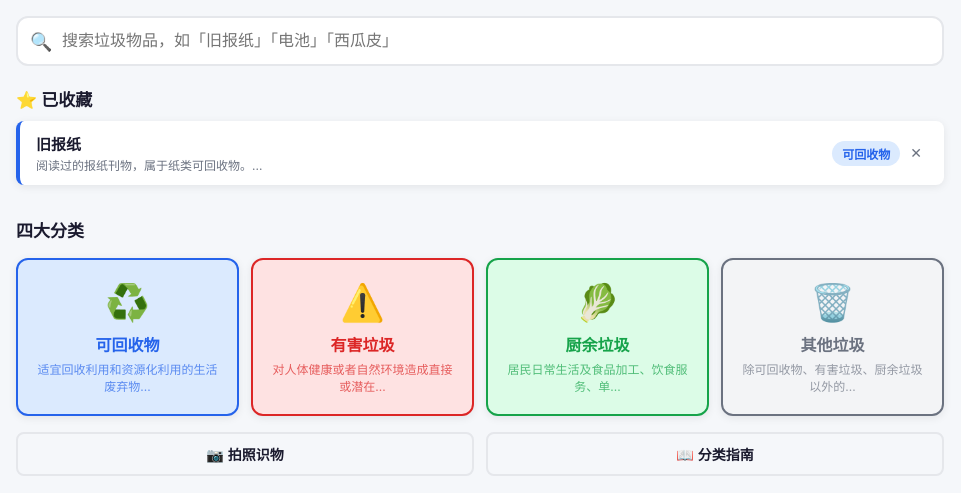
首页已收藏列表回看 › 全部取消收藏后，"已收藏"区域消失
Expected: the heading "⭐ 已收藏" is shown, [16,86,92,111]
Step 1. Click the button named "取消收藏" → (916, 153), box [904,141,928,165]
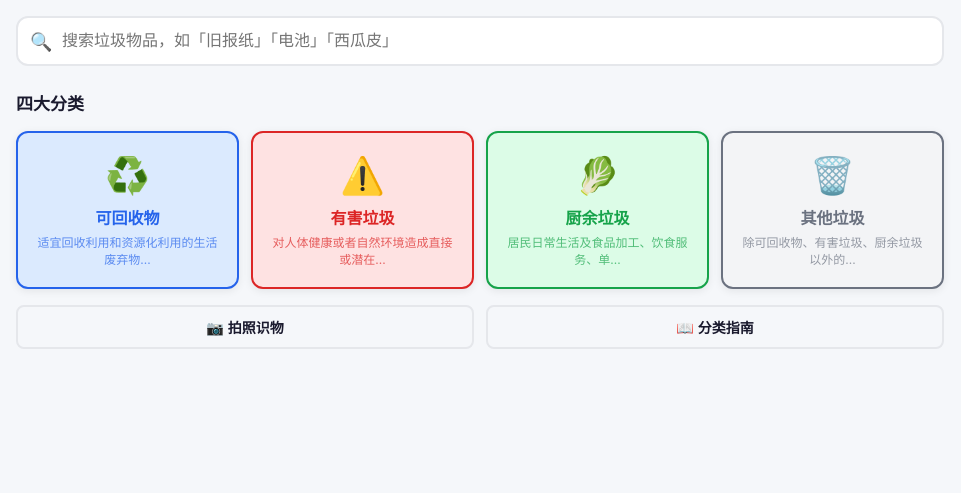
Now the heading "⭐ 已收藏" is gone
